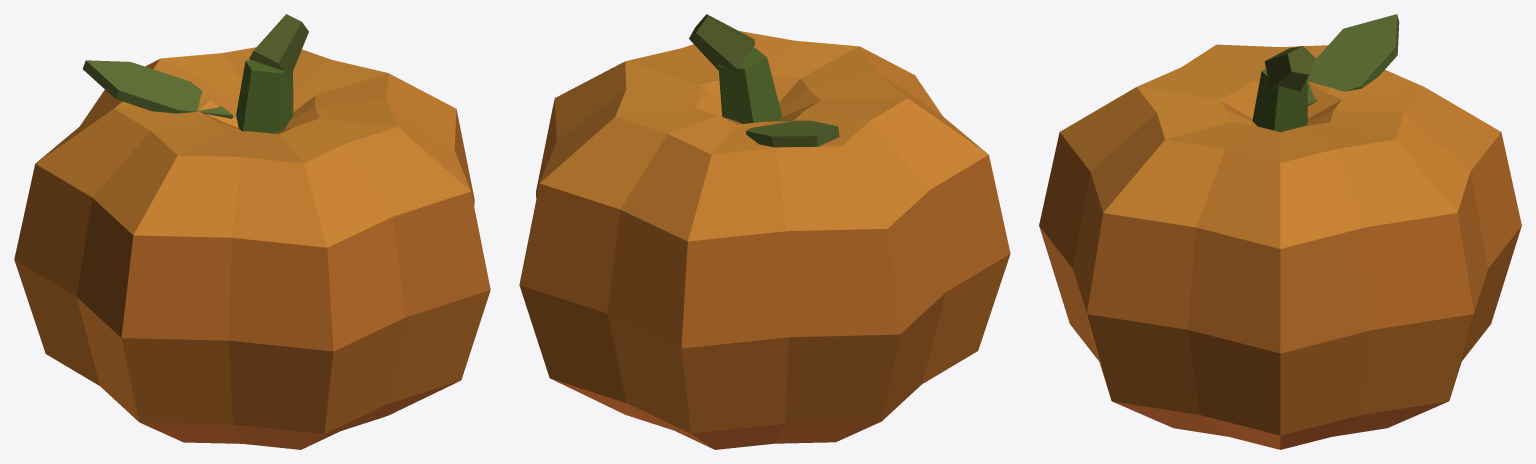
File: pumpkin.glb
3 views of the same model, side by side, from view 1: azimuth 30°, elevation 25°; view 2: azimuth 150°, elevation 25°; view 3: azimuth 270°, elevation 25° (orthographic). The views are drawn at different scales.
Visible parts, largest first — view 1: pumpkin; view 2: pumpkin; view 3: pumpkin.
Boxes of the visible parts, x1,y1,x2,y2 form: pumpkin: [14, 14, 490, 449]; pumpkin: [519, 14, 1010, 449]; pumpkin: [1039, 14, 1521, 449].
Size of the model in its own units: 0.4467 by 0.3815 by 0.4582.
